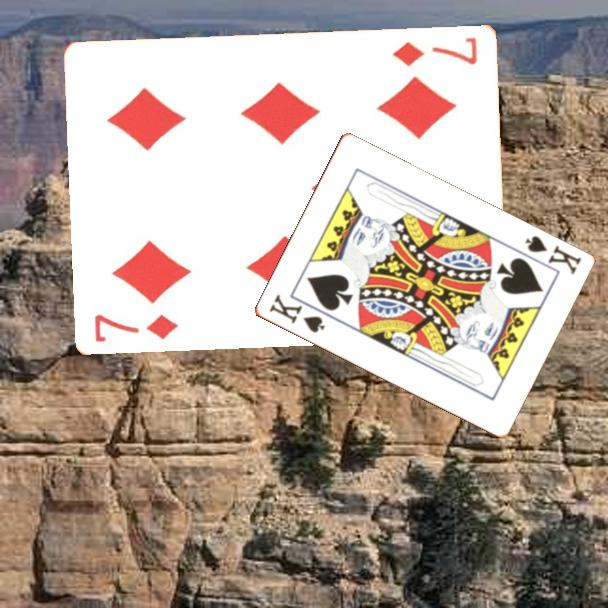d07: (390, 33, 481, 68), (91, 310, 182, 344)
s13: (521, 232, 584, 278), (265, 291, 328, 336)
